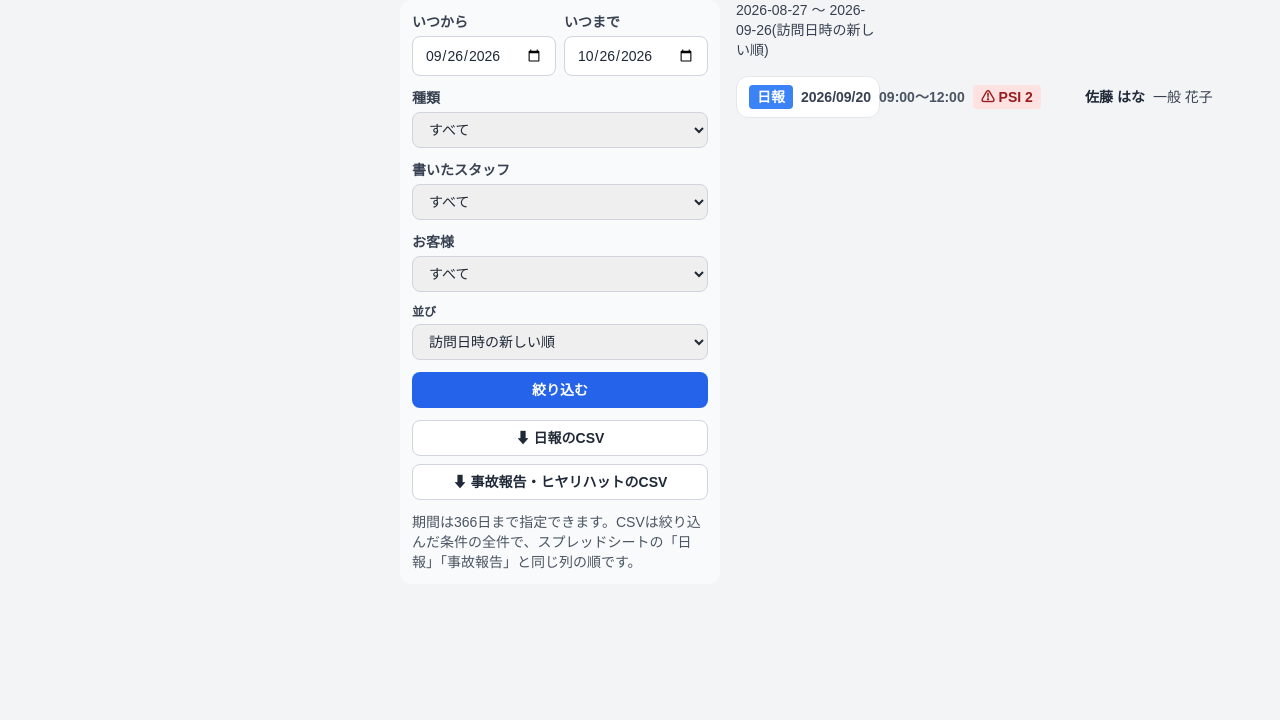
Test: 報告一覧 › 押すと中身を読むだけのダイアログで開く
Click the button "佐藤 はな".
click(808, 97)  # box x1=736 y1=76 x2=880 y2=118
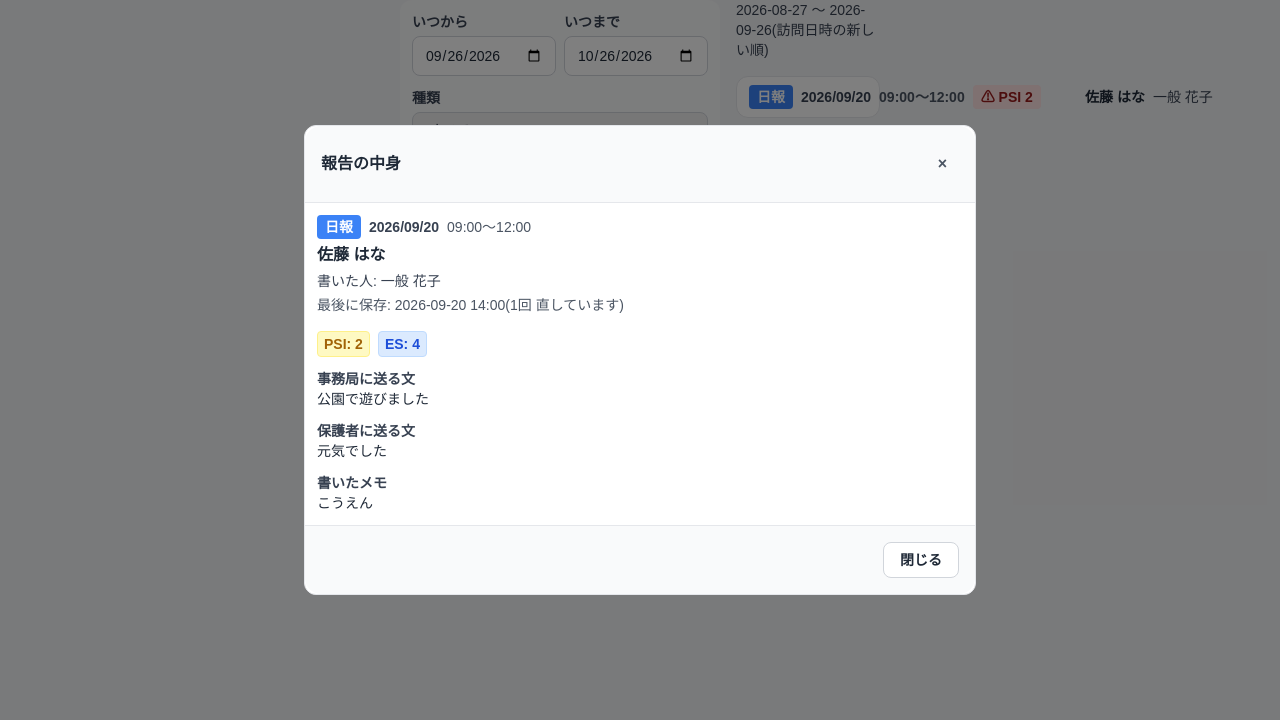
Check: the text "元気でした" is shown, box x1=317 y1=443 x2=387 y2=459
Check: the text "書いた人: 一般 花子" is shown, box x1=317 y1=273 x2=441 y2=289
Check: the text "最後に保存: 2026-09-20 14:00(1回 直しています)" is shown, box x1=317 y1=297 x2=624 y2=313
Click the button named "閉じる".
click(942, 164)  # box x1=926 y1=142 x2=959 y2=186
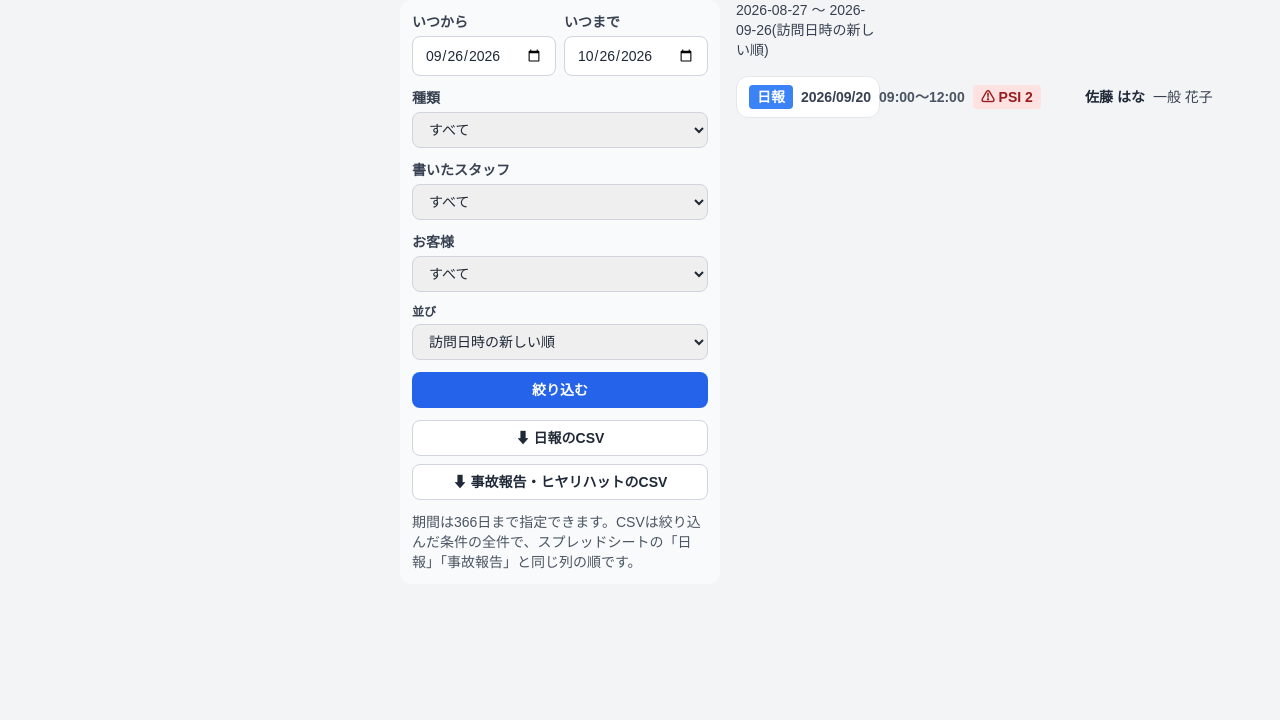
Check: the dialog is gone
